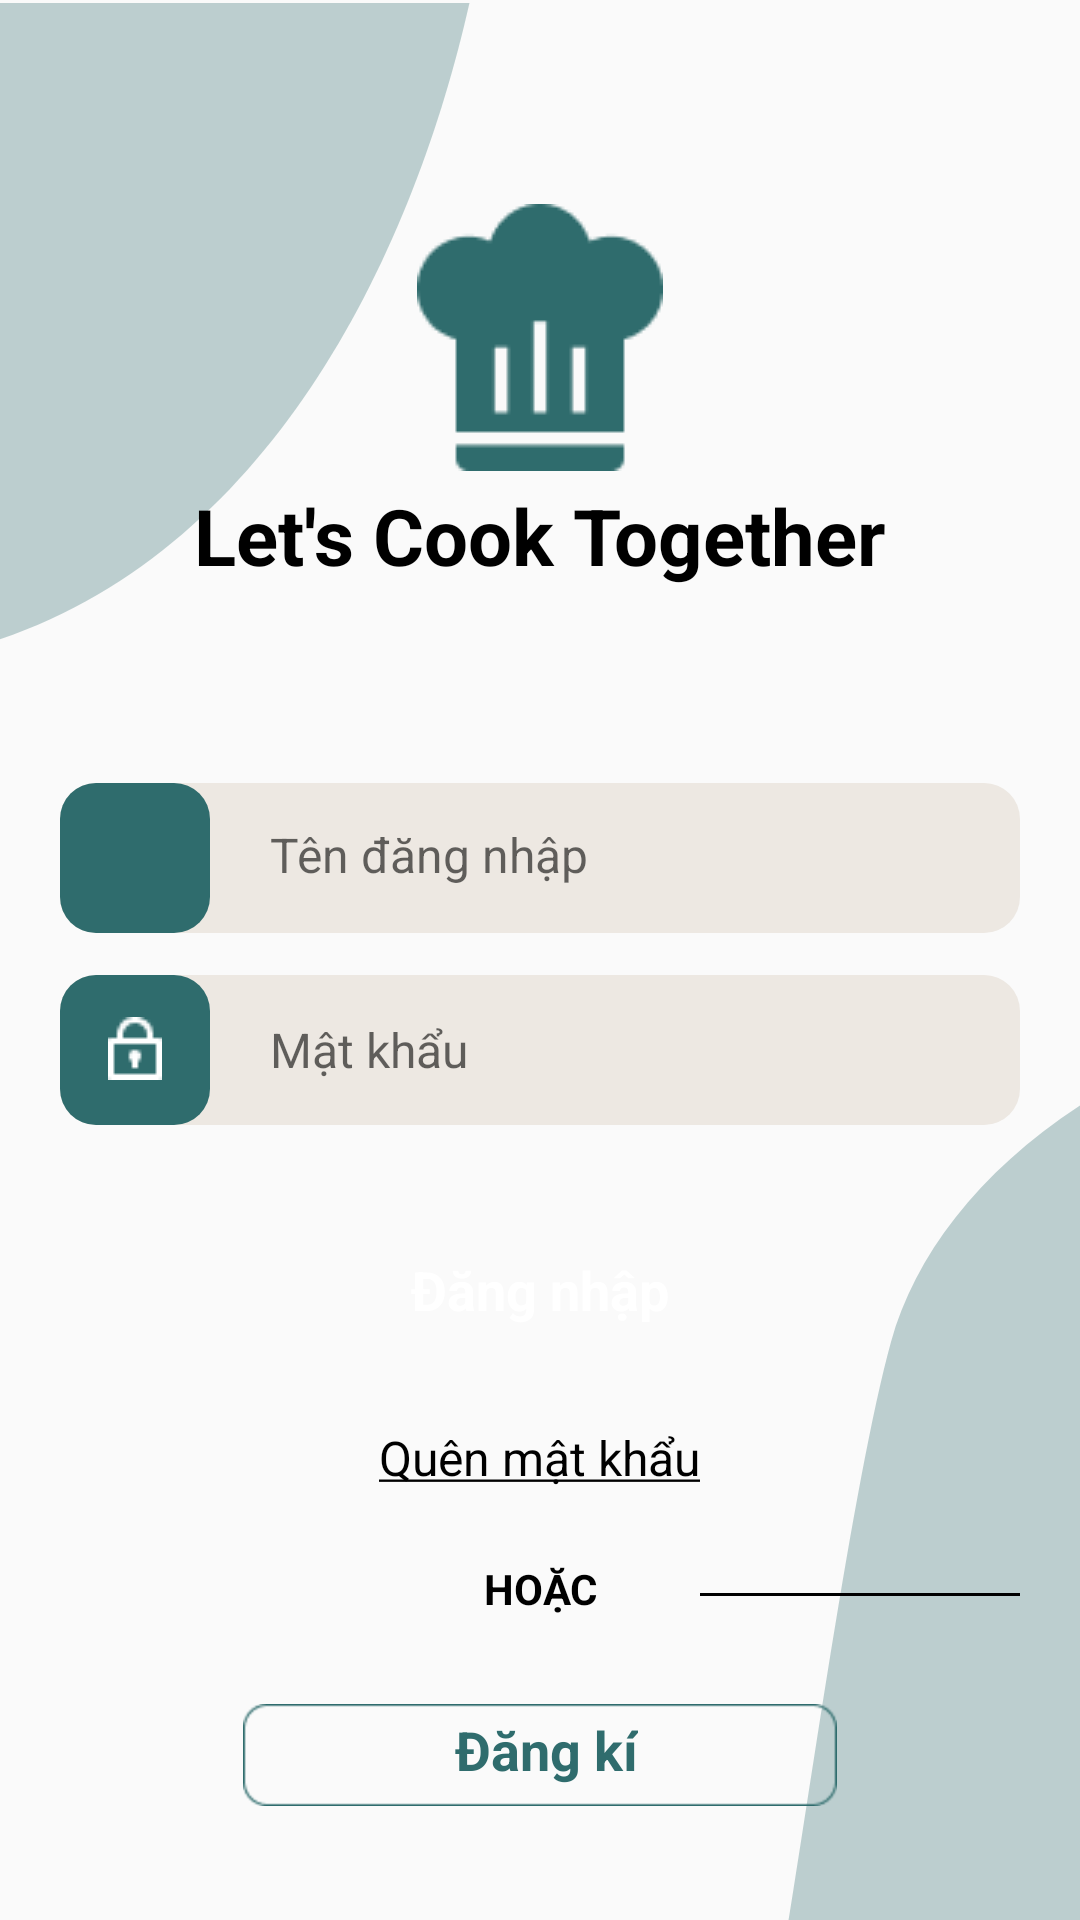

Where to tap for icons on this 1080x1920 app screen, as (x,y):
lock: (135,1048)
